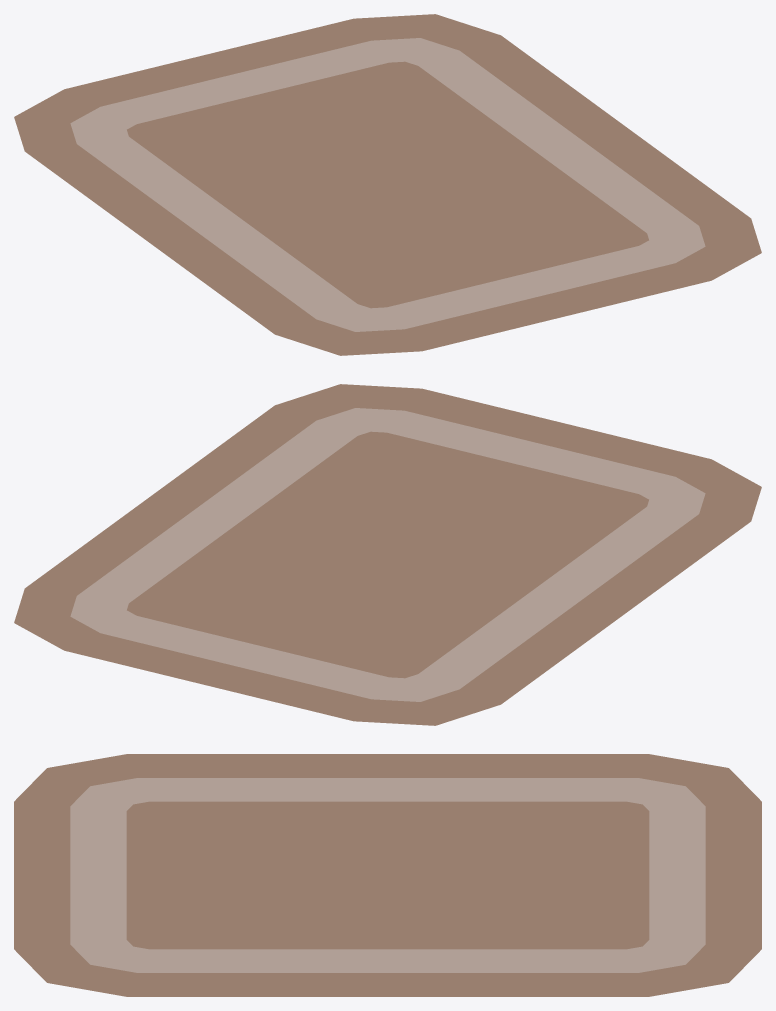
The model's file is placemat.glb.
3 renders of one model, top to bottom at view 1: azimuth 30°, elevation 25°; view 2: azimuth 150°, elevation 25°; view 3: azimuth 270°, elevation 25°, orthographic. The views are drawn at different scales.
Parts seen in each view (by area): view 1: placemat; view 2: placemat; view 3: placemat.
Boxes of the visible parts, box(x1,y1,x2,y2) form: placemat: box(14, 14, 761, 355); placemat: box(14, 384, 761, 725); placemat: box(14, 754, 761, 996).
Bounding box in the file's own units: 0.51 × 0 × 0.664.
